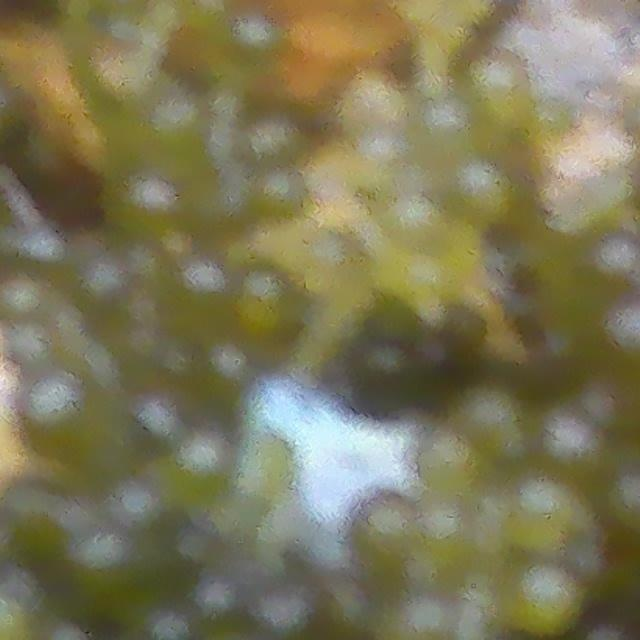SeaGrape: (23, 361, 106, 452), (155, 256, 248, 337), (112, 170, 189, 260), (75, 245, 152, 329), (345, 332, 424, 412), (344, 493, 417, 575), (406, 502, 473, 580), (509, 568, 584, 637), (348, 126, 422, 195), (509, 477, 575, 551), (379, 188, 445, 258), (410, 424, 475, 489), (336, 71, 405, 132), (250, 586, 317, 640)
